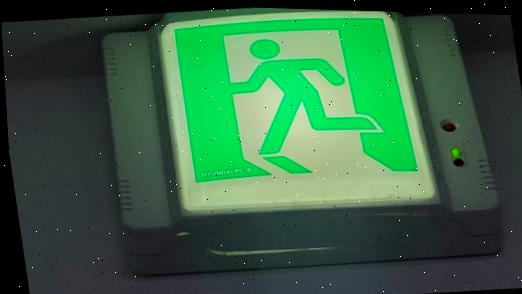emergency_exit: (157, 10, 440, 215)
